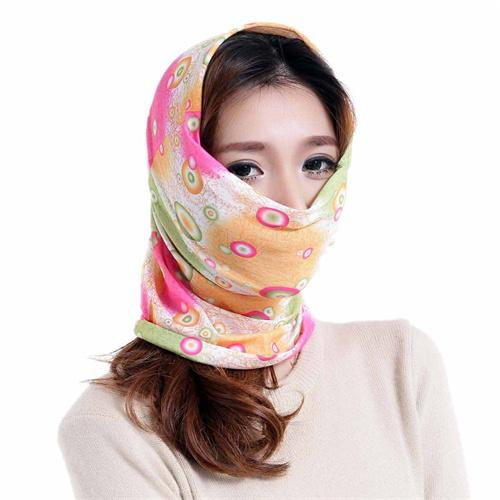WRONG: (200, 100, 341, 274)
